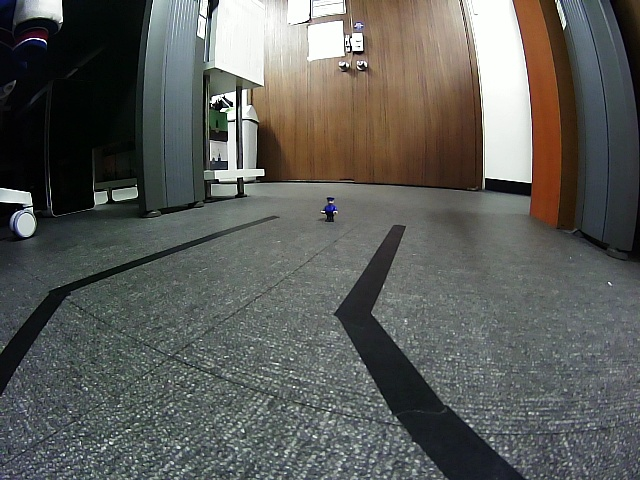person: (320, 196, 338, 221)
